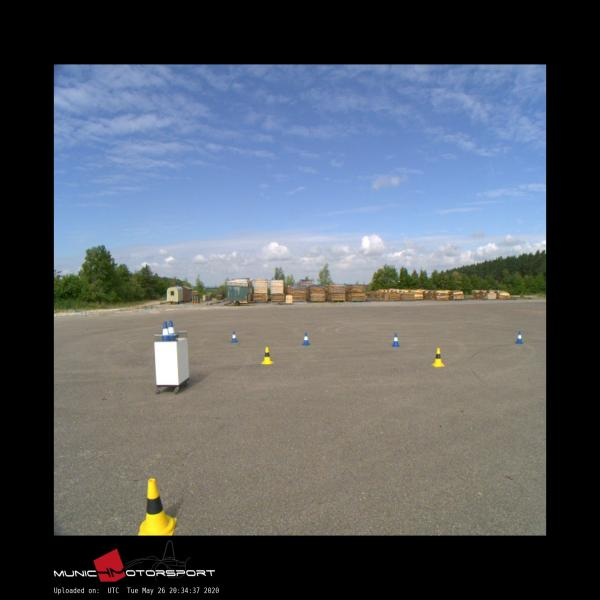blue_cone: (161, 321, 170, 341), (167, 321, 176, 340), (302, 332, 310, 346), (515, 331, 523, 343), (392, 333, 399, 346), (231, 332, 237, 342)
yellow_cone: (138, 479, 176, 535), (430, 348, 444, 366), (261, 346, 274, 364)
